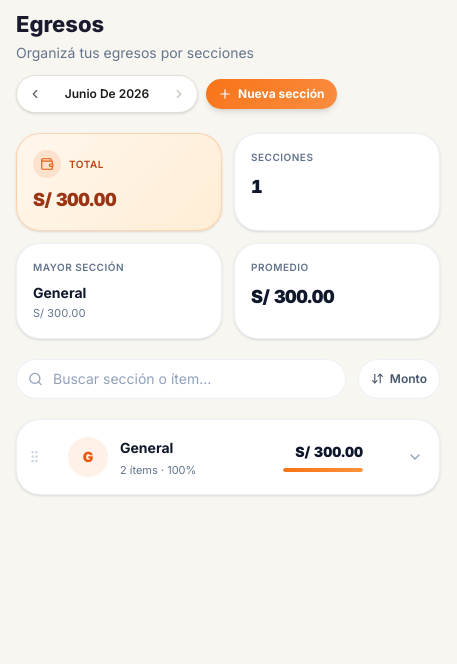
Test case: should PresupuestoView › should render delete button for each gasto
Expand accordion
Click the button with test id "categoria-header" at {"x": 88, "y": 457}, box top-left (52, 420), bottom-right (439, 494)
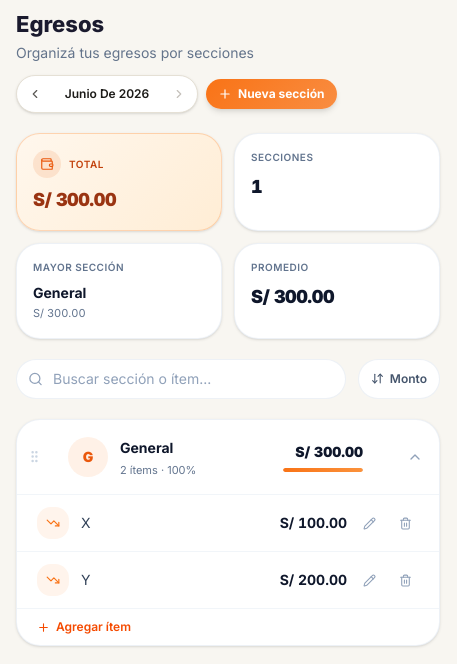
Now the number of buttons with test id "delete-button" is 2, box top-left (391, 509), bottom-right (419, 537); top-left (391, 566), bottom-right (419, 594)
